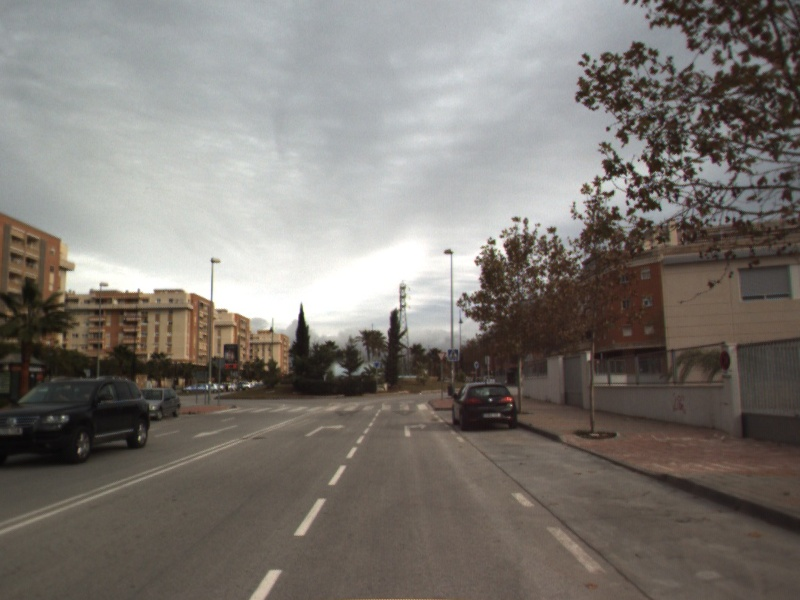RIGHT: (303, 422, 347, 439), (402, 420, 429, 439)
